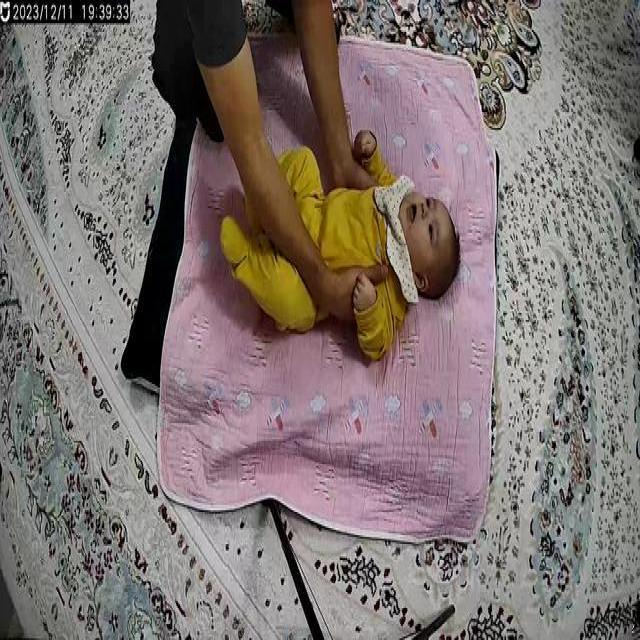baby: (219, 122, 464, 356)
